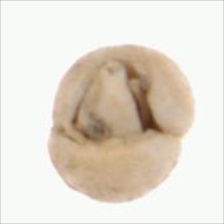L3: (72, 62, 161, 150)
L4: (48, 45, 196, 204)
